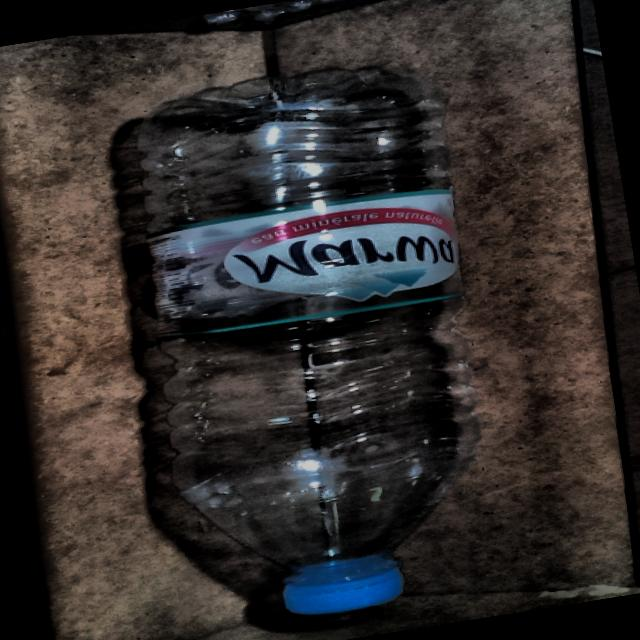plastic bottle: (137, 68, 476, 614)
